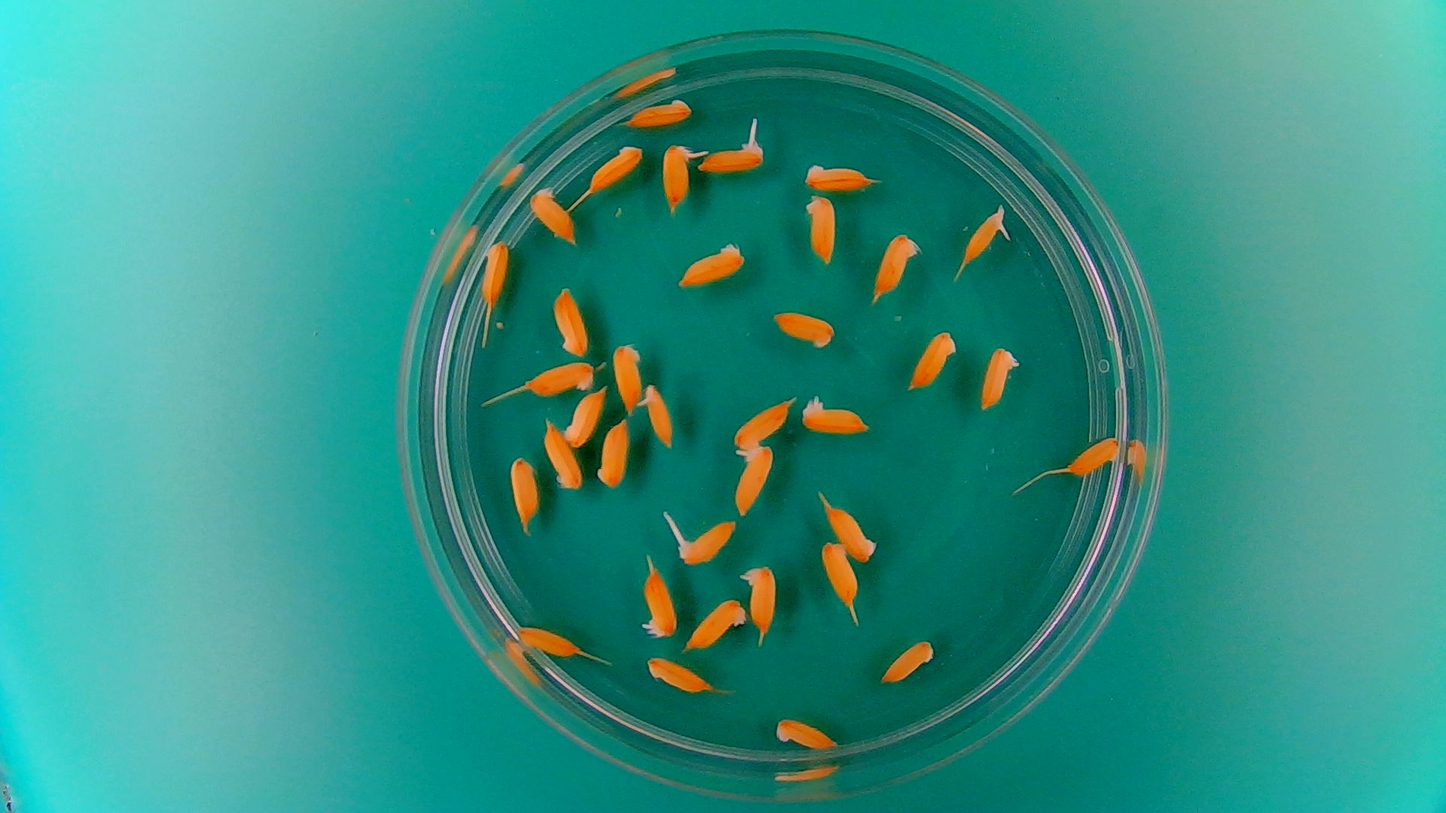no: (819, 492, 880, 566), (726, 391, 797, 454), (870, 227, 924, 303), (816, 540, 864, 623), (905, 325, 962, 394), (683, 595, 748, 653), (673, 239, 749, 288), (977, 340, 1023, 414), (526, 183, 578, 248), (585, 140, 647, 194), (540, 416, 584, 492), (875, 635, 939, 687), (768, 306, 840, 352), (507, 455, 545, 540), (1060, 431, 1124, 480), (551, 282, 591, 360), (799, 156, 881, 194), (593, 413, 632, 492), (801, 191, 840, 268), (563, 385, 609, 449), (642, 654, 712, 696), (523, 359, 597, 398), (620, 92, 696, 129), (517, 620, 587, 660), (771, 714, 840, 754), (611, 338, 645, 413), (480, 239, 515, 309)
yes: (666, 513, 740, 567), (628, 379, 678, 453), (731, 441, 778, 519), (798, 391, 875, 437), (636, 562, 679, 641), (740, 559, 781, 638), (659, 140, 703, 210), (957, 203, 1007, 263), (697, 136, 765, 174)
